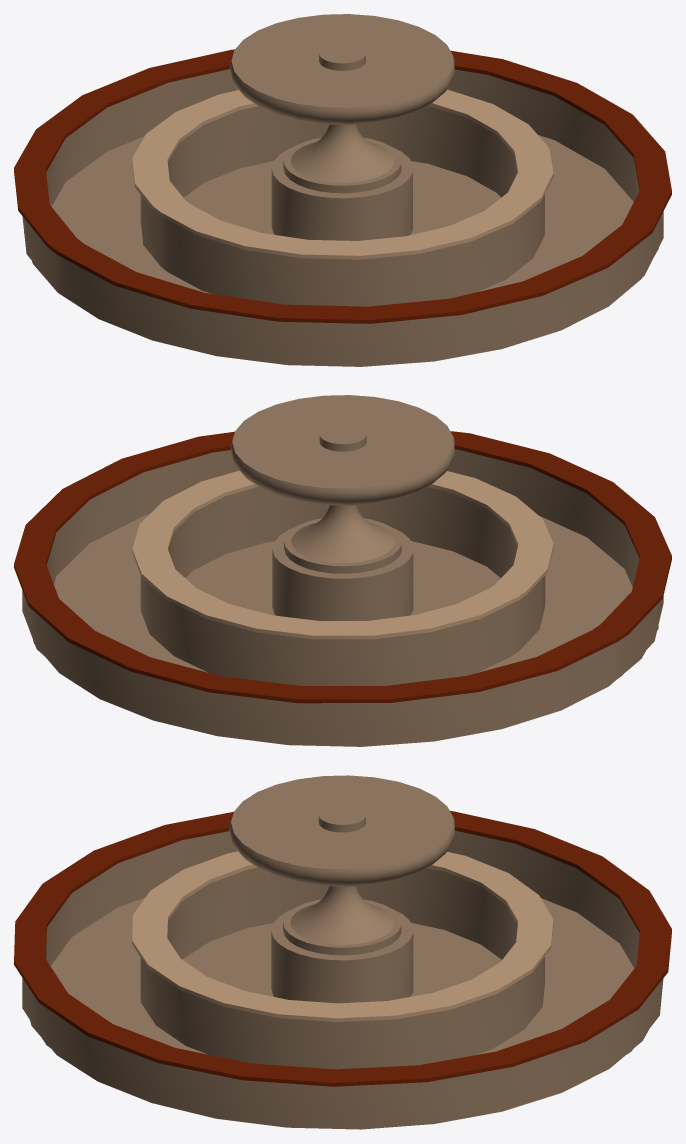
Rendered from fountains.glb.
The picture shows the model from 3 angles, top to bottom: view 1: azimuth 30°, elevation 25°; view 2: azimuth 150°, elevation 25°; view 3: azimuth 270°, elevation 25°; orthographic projection.
Visible parts, largest first — view 1: Root; view 2: Root; view 3: Root.
Part boxes in pixels (x1,y1,x2,y2): Root: [14, 14, 671, 366]; Root: [14, 395, 671, 746]; Root: [14, 775, 671, 1129].
Size of the model in its own units: 7.9 by 2.37 by 7.85.
